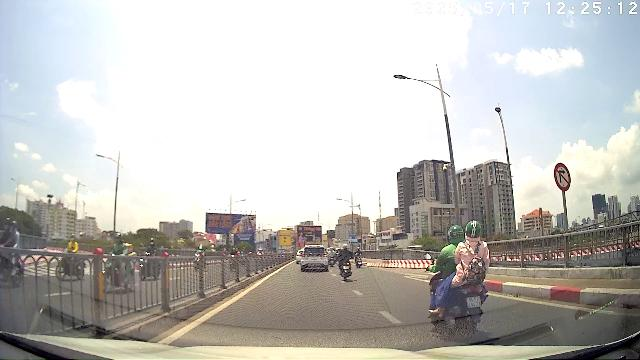123b-cam-re-phai: (554, 162, 571, 191)
